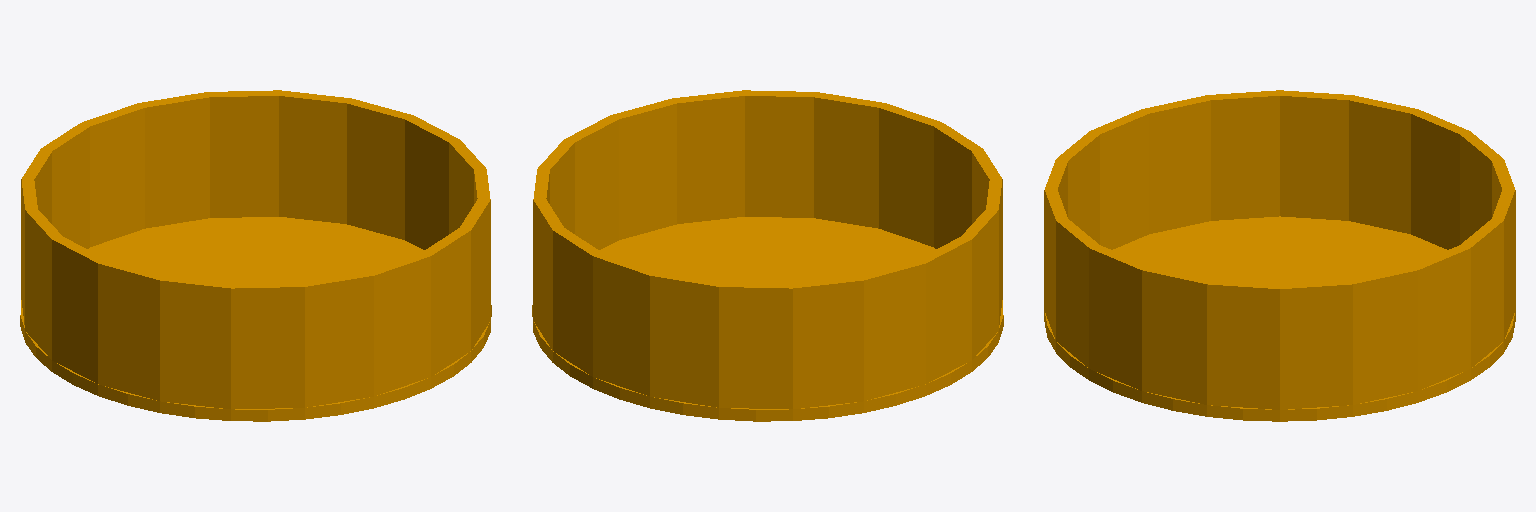
robot.urdf — nest_inner_3:
<?xml version='1.0' encoding='utf-8'?>
<robot name="nest_inner_3">
  <link name="body">
    <inertial>
      <origin xyz="-1.6263032587282567e-18 -3.2526065174565133e-18 0.027430639766282794" />
      <mass value="0.4" />
      <inertia ixx="0.003361704644599713" iyy="0.003361704644599713" izz="0.006083653182471772" ixy="8.650323973834542e-20" ixz="7.546988504435782e-20" iyz="1.2150169841741328e-19" />
    </inertial>
    <collision>
      <geometry>
        <mesh filename="part_00.obj" />
      </geometry>
    </collision>
    <collision>
      <geometry>
        <mesh filename="part_01.obj" />
      </geometry>
    </collision>
    <collision>
      <geometry>
        <mesh filename="part_02.obj" />
      </geometry>
    </collision>
    <collision>
      <geometry>
        <mesh filename="part_03.obj" />
      </geometry>
    </collision>
    <collision>
      <geometry>
        <mesh filename="part_04.obj" />
      </geometry>
    </collision>
    <collision>
      <geometry>
        <mesh filename="part_05.obj" />
      </geometry>
    </collision>
    <collision>
      <geometry>
        <mesh filename="part_06.obj" />
      </geometry>
    </collision>
    <collision>
      <geometry>
        <mesh filename="part_07.obj" />
      </geometry>
    </collision>
    <collision>
      <geometry>
        <mesh filename="part_08.obj" />
      </geometry>
    </collision>
    <collision>
      <geometry>
        <mesh filename="part_09.obj" />
      </geometry>
    </collision>
    <collision>
      <geometry>
        <mesh filename="part_10.obj" />
      </geometry>
    </collision>
    <collision>
      <geometry>
        <mesh filename="part_11.obj" />
      </geometry>
    </collision>
    <collision>
      <geometry>
        <mesh filename="part_12.obj" />
      </geometry>
    </collision>
    <collision>
      <geometry>
        <mesh filename="part_13.obj" />
      </geometry>
    </collision>
    <collision>
      <geometry>
        <mesh filename="part_14.obj" />
      </geometry>
    </collision>
    <collision>
      <geometry>
        <mesh filename="part_15.obj" />
      </geometry>
    </collision>
    <collision>
      <geometry>
        <mesh filename="part_16.obj" />
      </geometry>
    </collision>
    <collision>
      <geometry>
        <mesh filename="part_17.obj" />
      </geometry>
    </collision>
    <collision>
      <geometry>
        <mesh filename="part_18.obj" />
      </geometry>
    </collision>
    <collision>
      <geometry>
        <mesh filename="part_19.obj" />
      </geometry>
    </collision>
    <collision>
      <geometry>
        <mesh filename="part_20.obj" />
      </geometry>
    </collision>
    <visual>
      <geometry>
        <mesh filename="visual.obj" />
      </geometry>
    </visual>
  </link>
</robot>

--- Facts derived from the render (not from the file) ---
Views: 3 orthographic renders of the robot side by side, from view 1: azimuth 30°, elevation 25°; view 2: azimuth 150°, elevation 25°; view 3: azimuth 270°, elevation 25°.
Robot: nest_inner_3 — 1 links, 0 joints (none); root link body; default pose: all joints at 0.
Visible links, largest first — view 1: body; view 2: body; view 3: body.
Link boxes in pixels (box(x1,y1,x2,y2)): body: box(20, 90, 491, 421); body: box(532, 90, 1003, 421); body: box(1044, 90, 1515, 421).
Size in the robot's own frame: 0.29 by 0.29 by 0.09 metres.
1 mesh visuals loaded from 1 distinct referenced files (1 OBJ).
